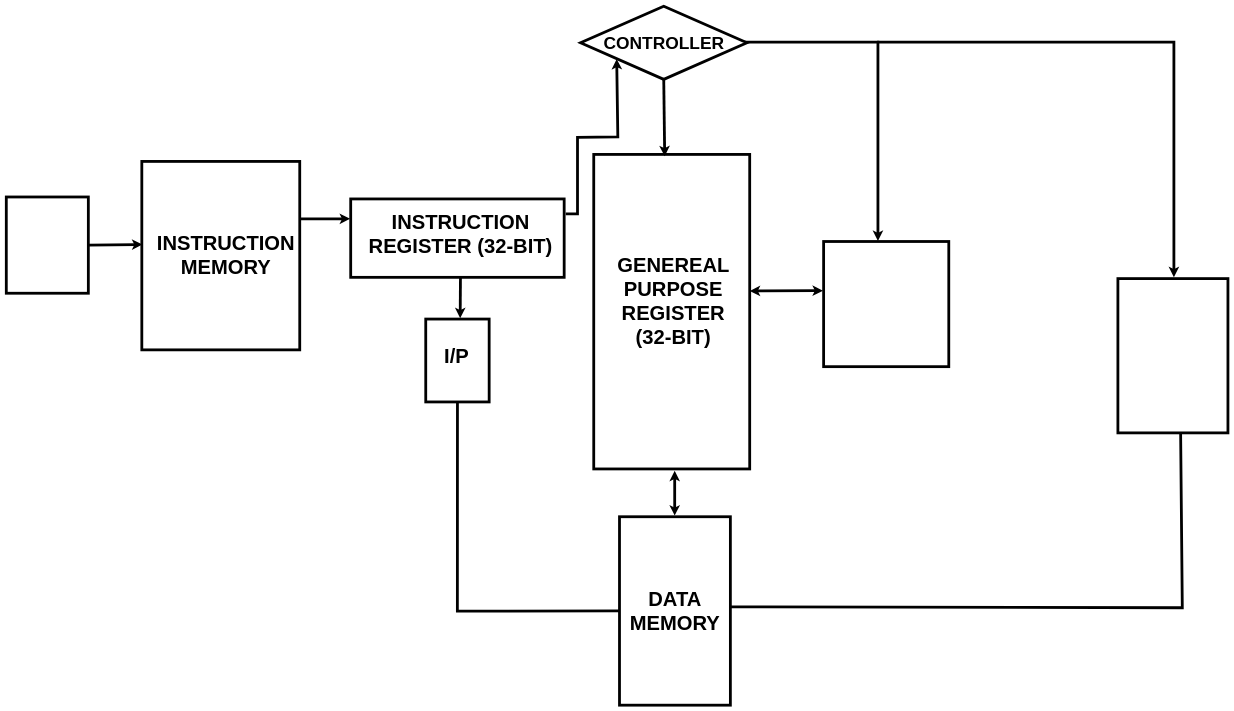
Image size: 1234x711. Some labels were removed from this diagram. Each missing label, with the centre of its shape:
"ALU" belongs at (x=886, y=304).
"I/O" belongs at (x=1172, y=355).
"PROGRAM COUNTER" belongs at (x=47, y=245).
